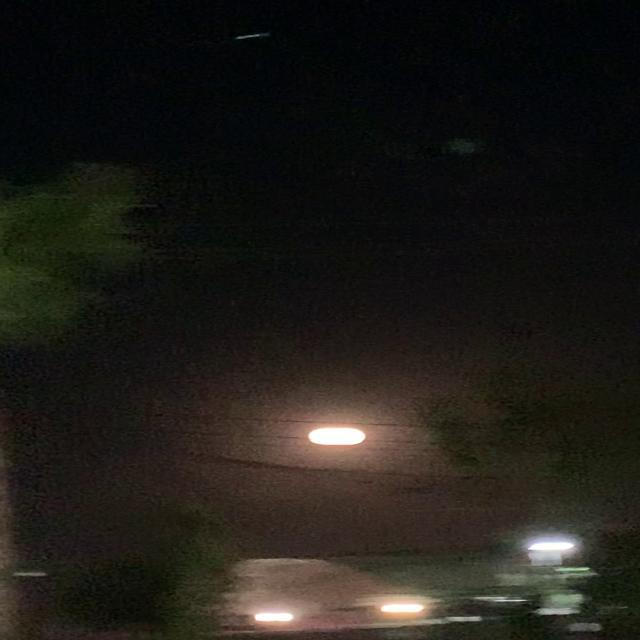moon: (310, 426, 368, 454)
